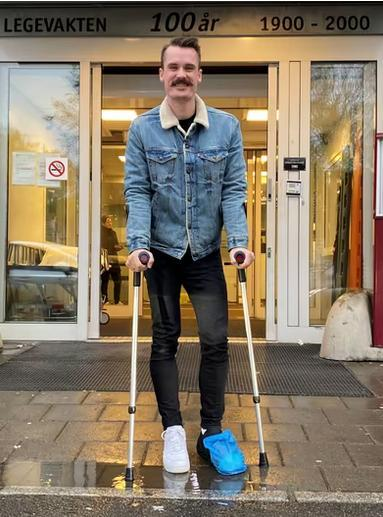crutches: (125, 36, 270, 480)
